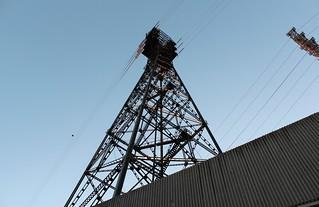power_tower: (65, 19, 228, 204)
